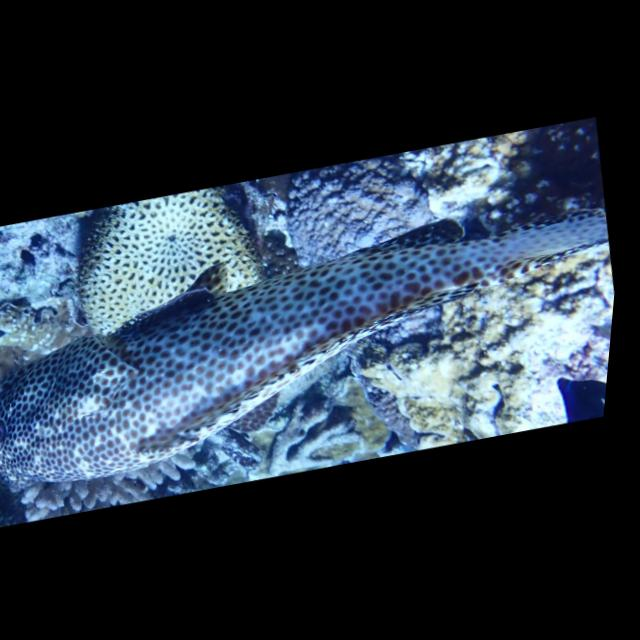Groupers: (0, 200, 622, 503)
